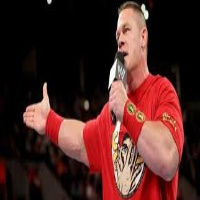ring: (23, 116, 36, 123), (106, 94, 115, 101)
